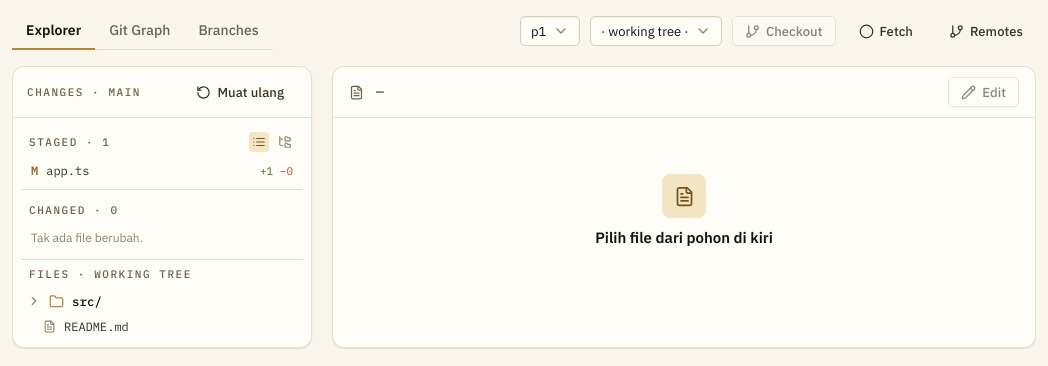
IdeScreen Staged & Changed › klik file staged → panggil ideFileDiff(staged=true) & render diff
The image size is (1048, 366).
Click the text "app.ts" at coordinates (68, 170), box [46,163,89,178]
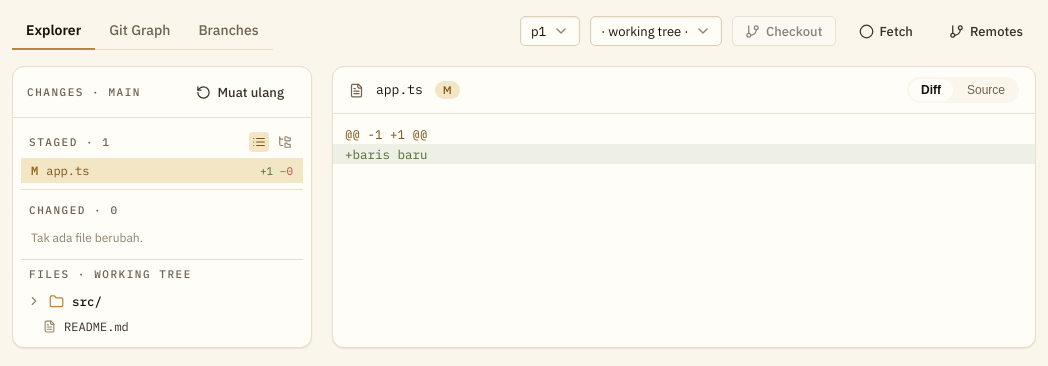
Expected: the text "+baris baru" is shown, [333,144,1035,164]
